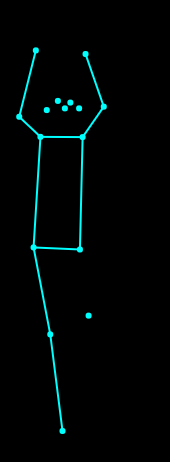tree: (12, 43, 116, 436)
